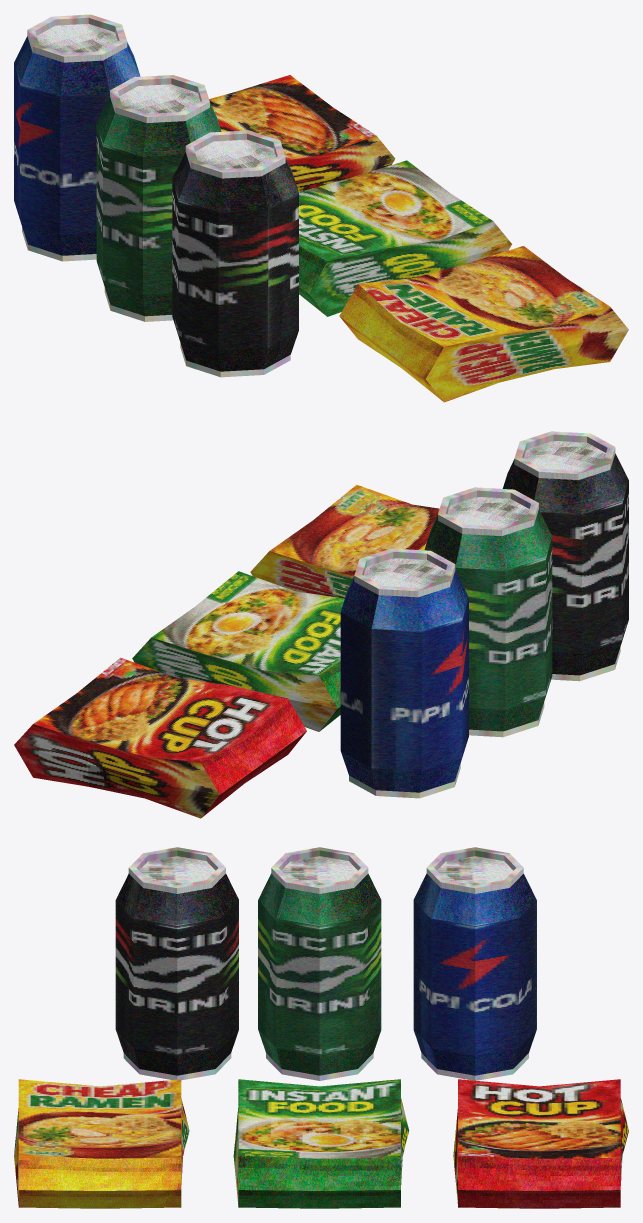
Rendered from main_scene.fbx.
3 renders of one model, top to bottom at view 1: azimuth 30°, elevation 25°; view 2: azimuth 150°, elevation 25°; view 3: azimuth 270°, elevation 25°, orthographic. The views are drawn at different scales.
Parts seen in each view (by area): view 1: bottel01, ramen01, bottel03, bottel02, ramen02, ramen03; view 2: bottel03, ramen03, bottel02, bottel01, ramen02, ramen01; view 3: bottel02, bottel03, bottel01, ramen01, ramen03, ramen02.
Boxes of the visible parts, x1,y1,x2,y2 form: bottel01: (172, 130, 298, 377); ramen01: (339, 246, 628, 402); bottel03: (14, 14, 140, 261); bottel02: (96, 75, 221, 321); ramen02: (298, 160, 511, 316); ramen03: (209, 75, 395, 191); bottel03: (340, 548, 468, 798); ramen03: (14, 657, 306, 818); bottel02: (424, 487, 552, 737); bottel01: (502, 431, 628, 681); ramen02: (132, 571, 344, 731); ramen01: (250, 485, 439, 598); bottel02: (258, 847, 381, 1080); bottel03: (413, 847, 536, 1080); bottel01: (115, 847, 238, 1080); ramen01: (14, 1079, 189, 1208); ramen03: (453, 1079, 628, 1208); ramen02: (233, 1079, 409, 1208).
Bounding box in the file's own units: 51.33 × 29.46 × 79.
